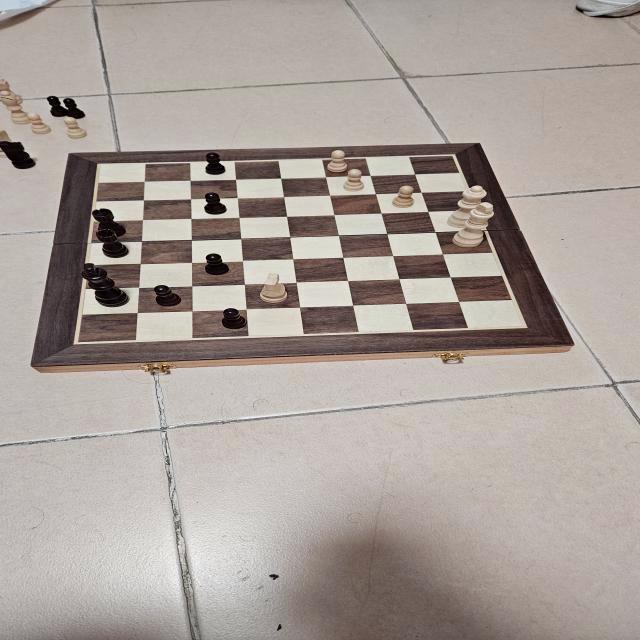chess-table-corners: (69, 338, 90, 346), (518, 323, 534, 330), (447, 152, 462, 158), (94, 162, 108, 166)
